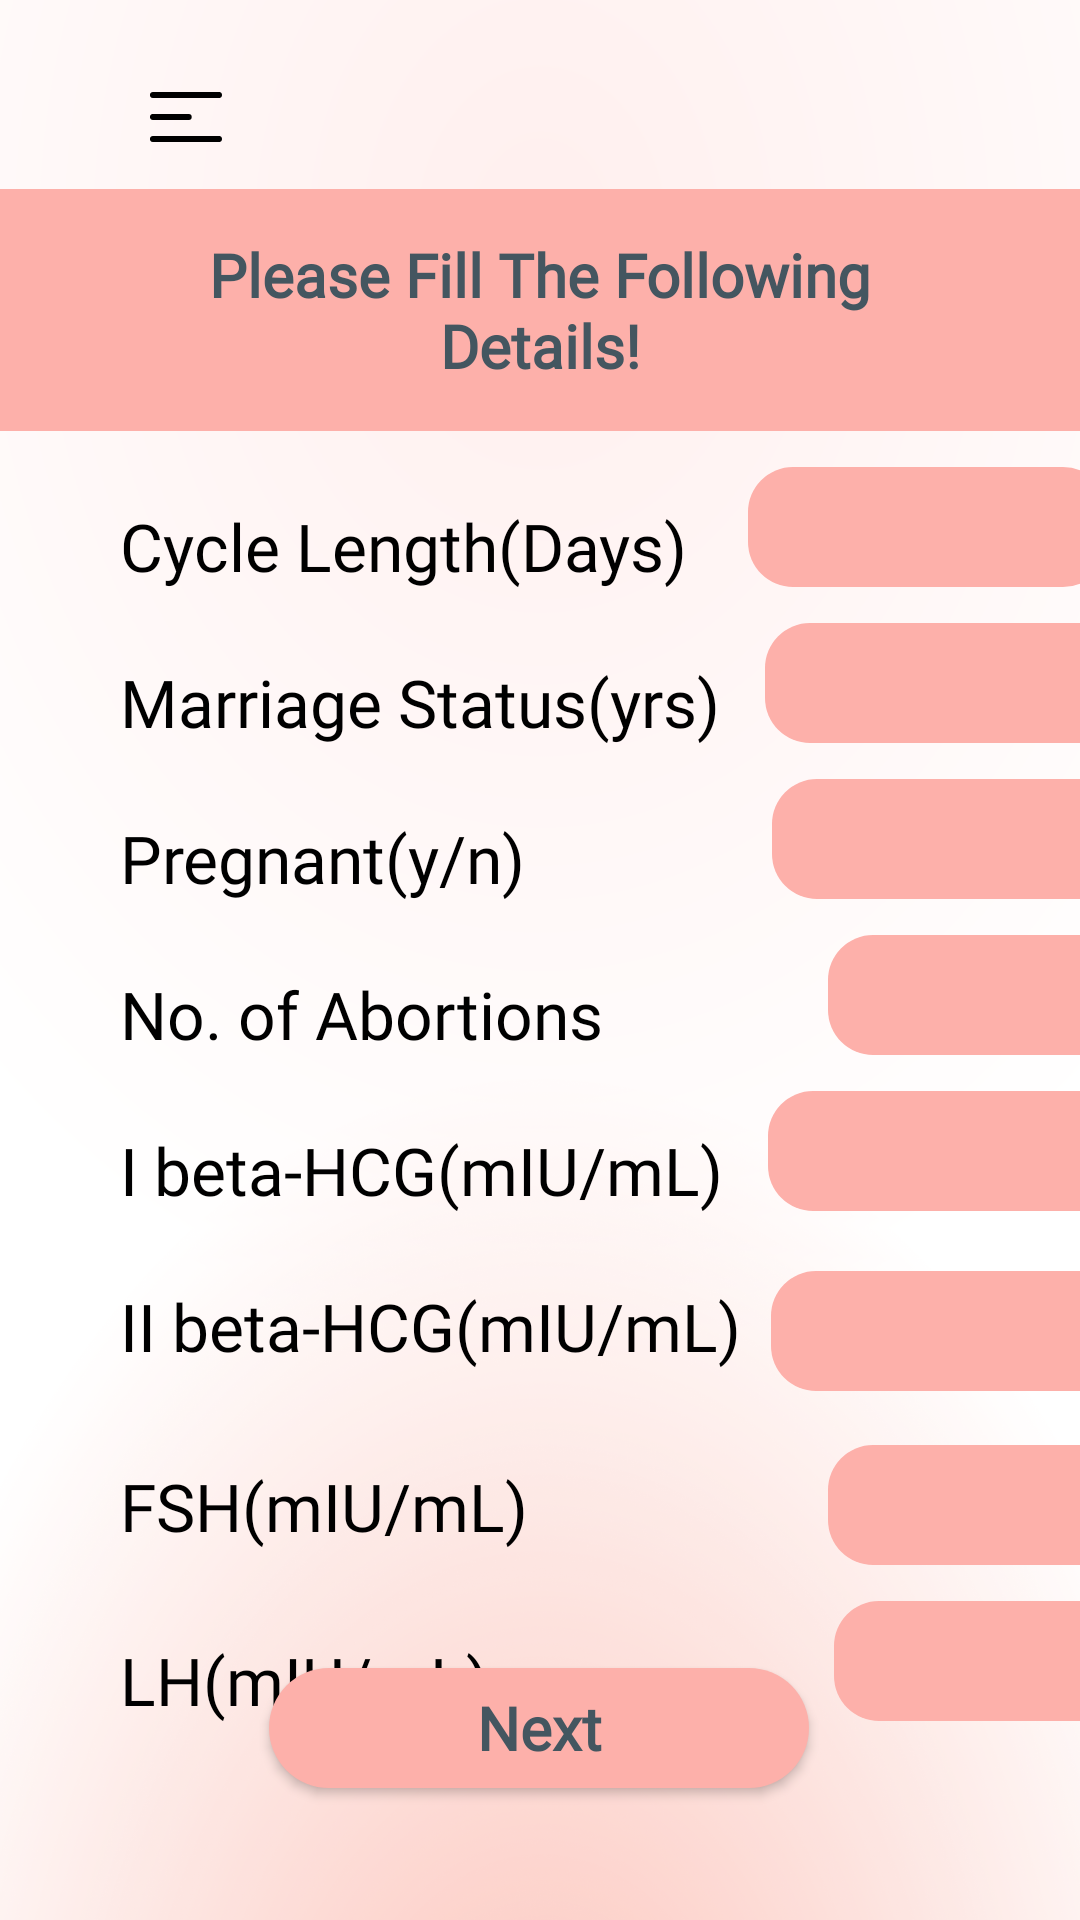

Icons on this 1080 x 1920 Android screen, each with the point to tap as point (x, y):
hamburger: point (186, 117)
